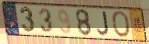3: (19, 6, 36, 34), (37, 8, 54, 34)
8: (75, 8, 93, 37)
9: (57, 8, 73, 35)
J: (97, 11, 110, 37)
O: (111, 11, 132, 39)
